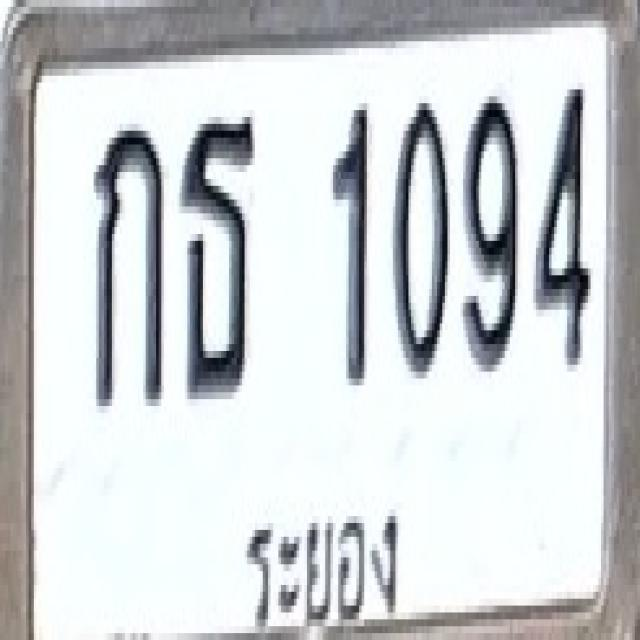0: (392, 96, 448, 378)
1: (330, 100, 370, 389)
4: (532, 83, 589, 364)
9: (463, 90, 518, 372)
A01: (92, 120, 162, 410)
A24: (179, 110, 255, 399)
RYG: (231, 492, 409, 629)
